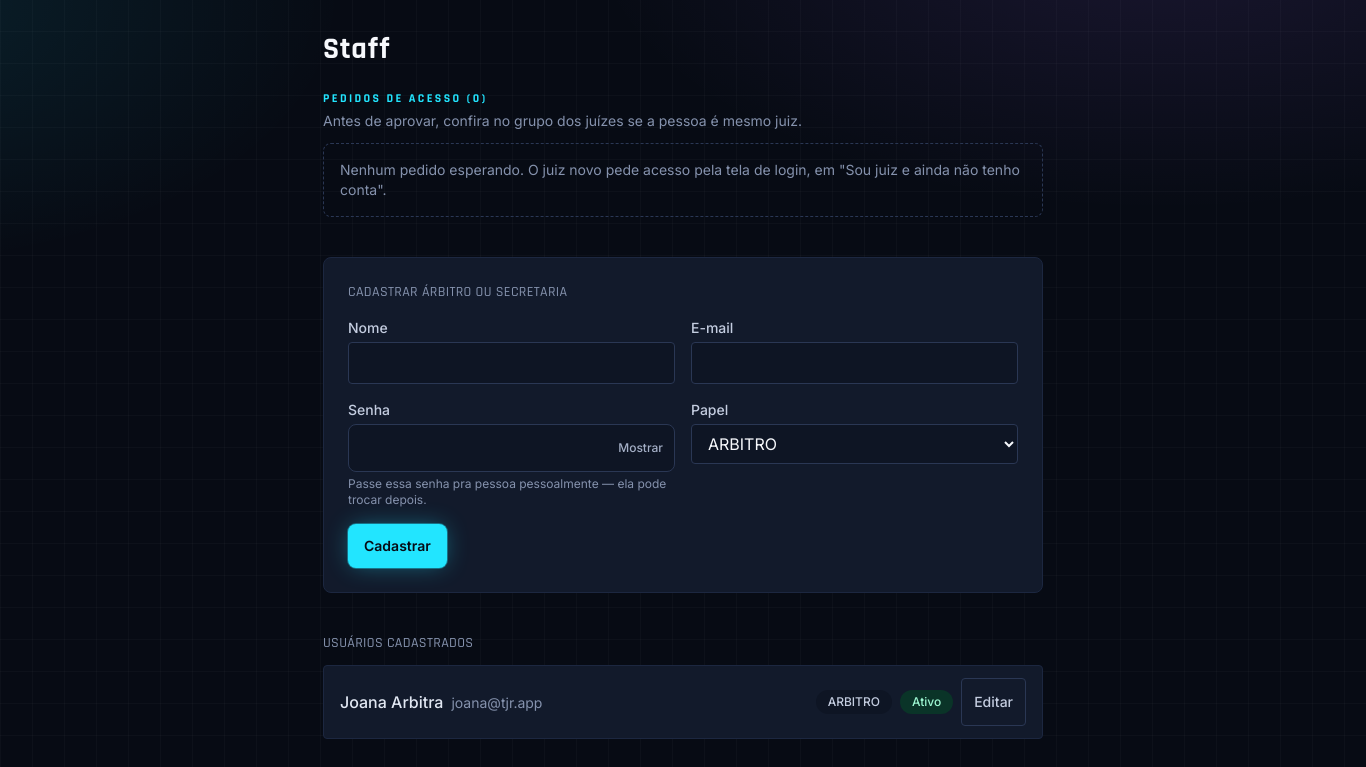
Test: UsuarioListPage › editar usuario › troca a senha
Click the button "Editar" at x=994, y=702, box [961,678,1026,726]
(page scrolled)
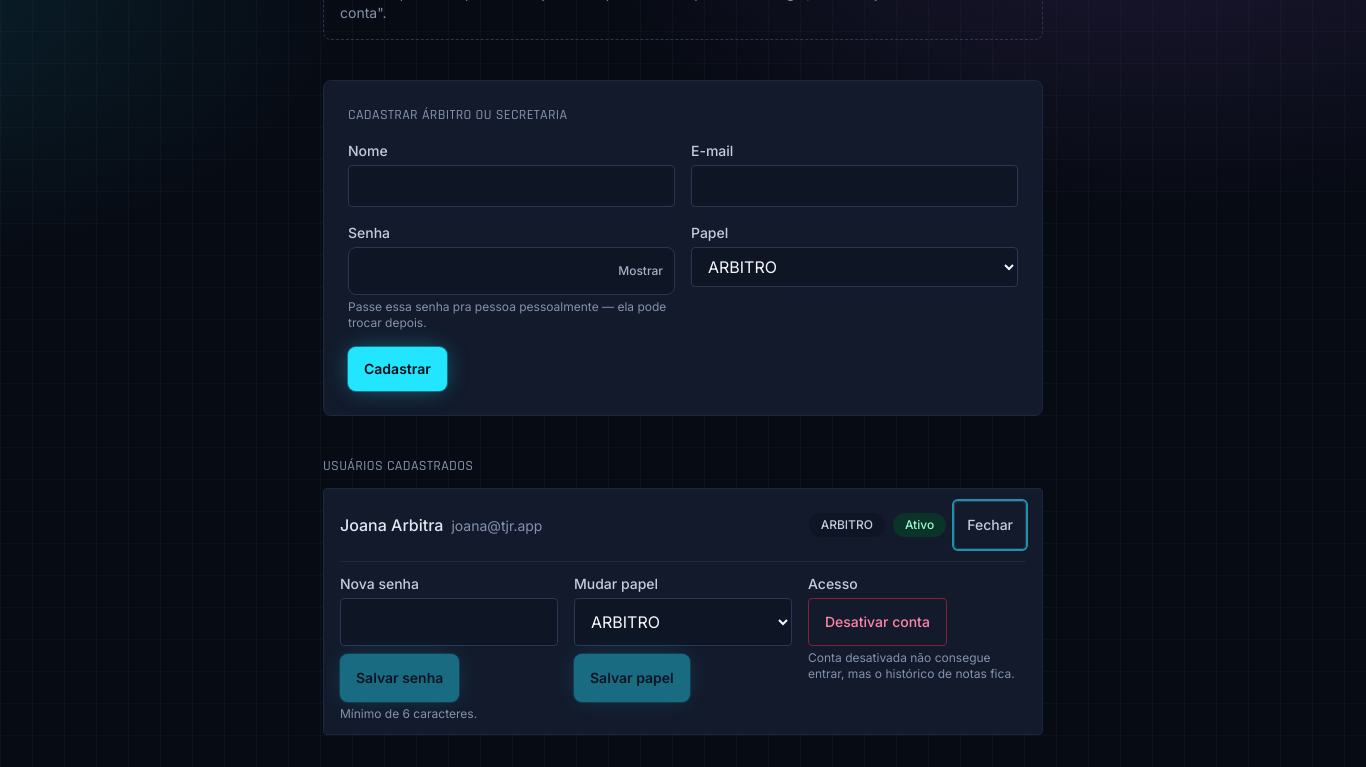
Type "senha-nova" into the field labelled "Nova senha" at x=449, y=622, box [340,598,558,646]
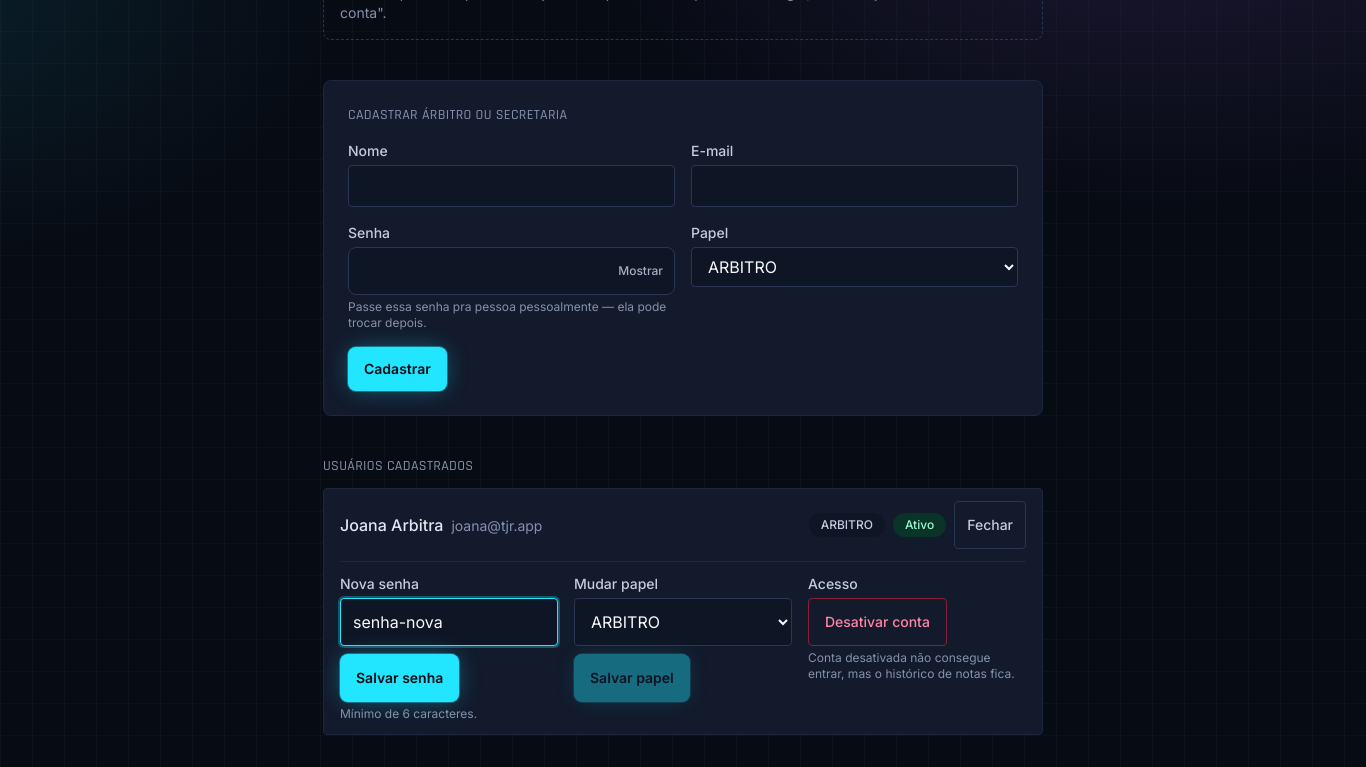
Click the button "Salvar senha" at x=400, y=678, box [340,654,459,702]
(page scrolled)
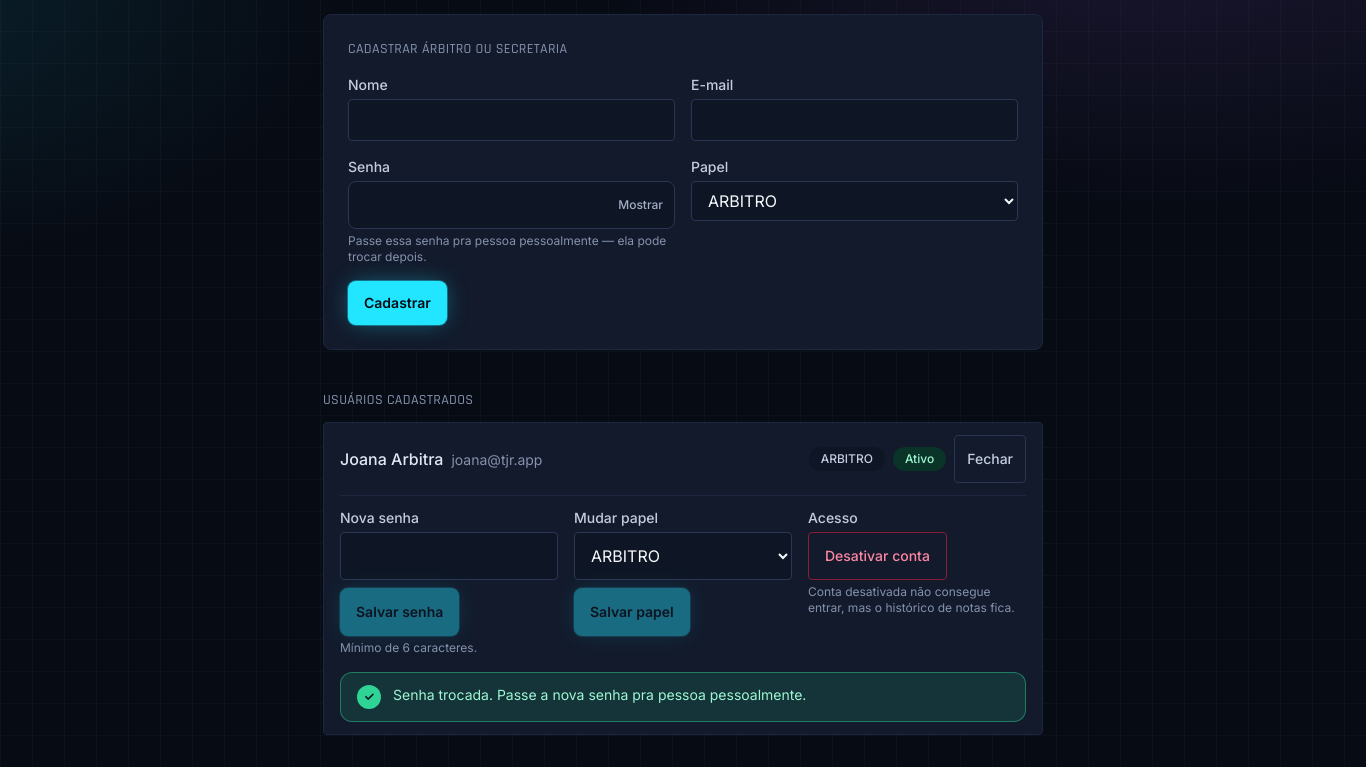
expect the text "Senha trocada. Passe a nova senha pra pessoa pessoalmente." is shown: met, box [393,686,806,703]
